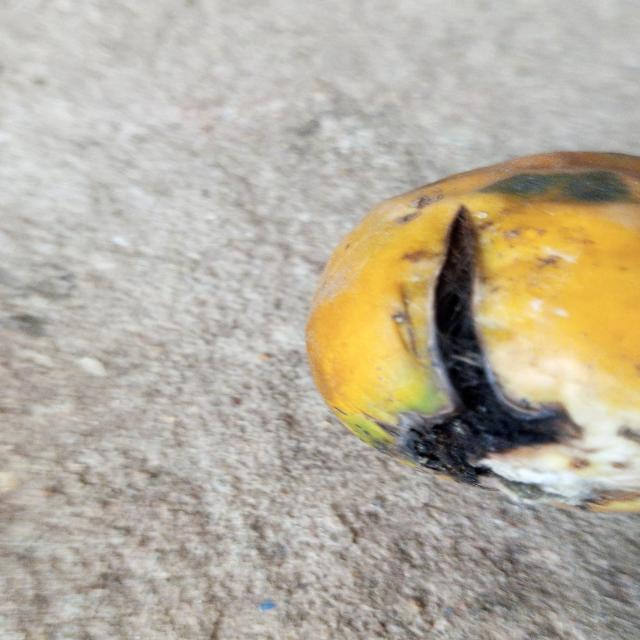damaged: (305, 151, 640, 516)
